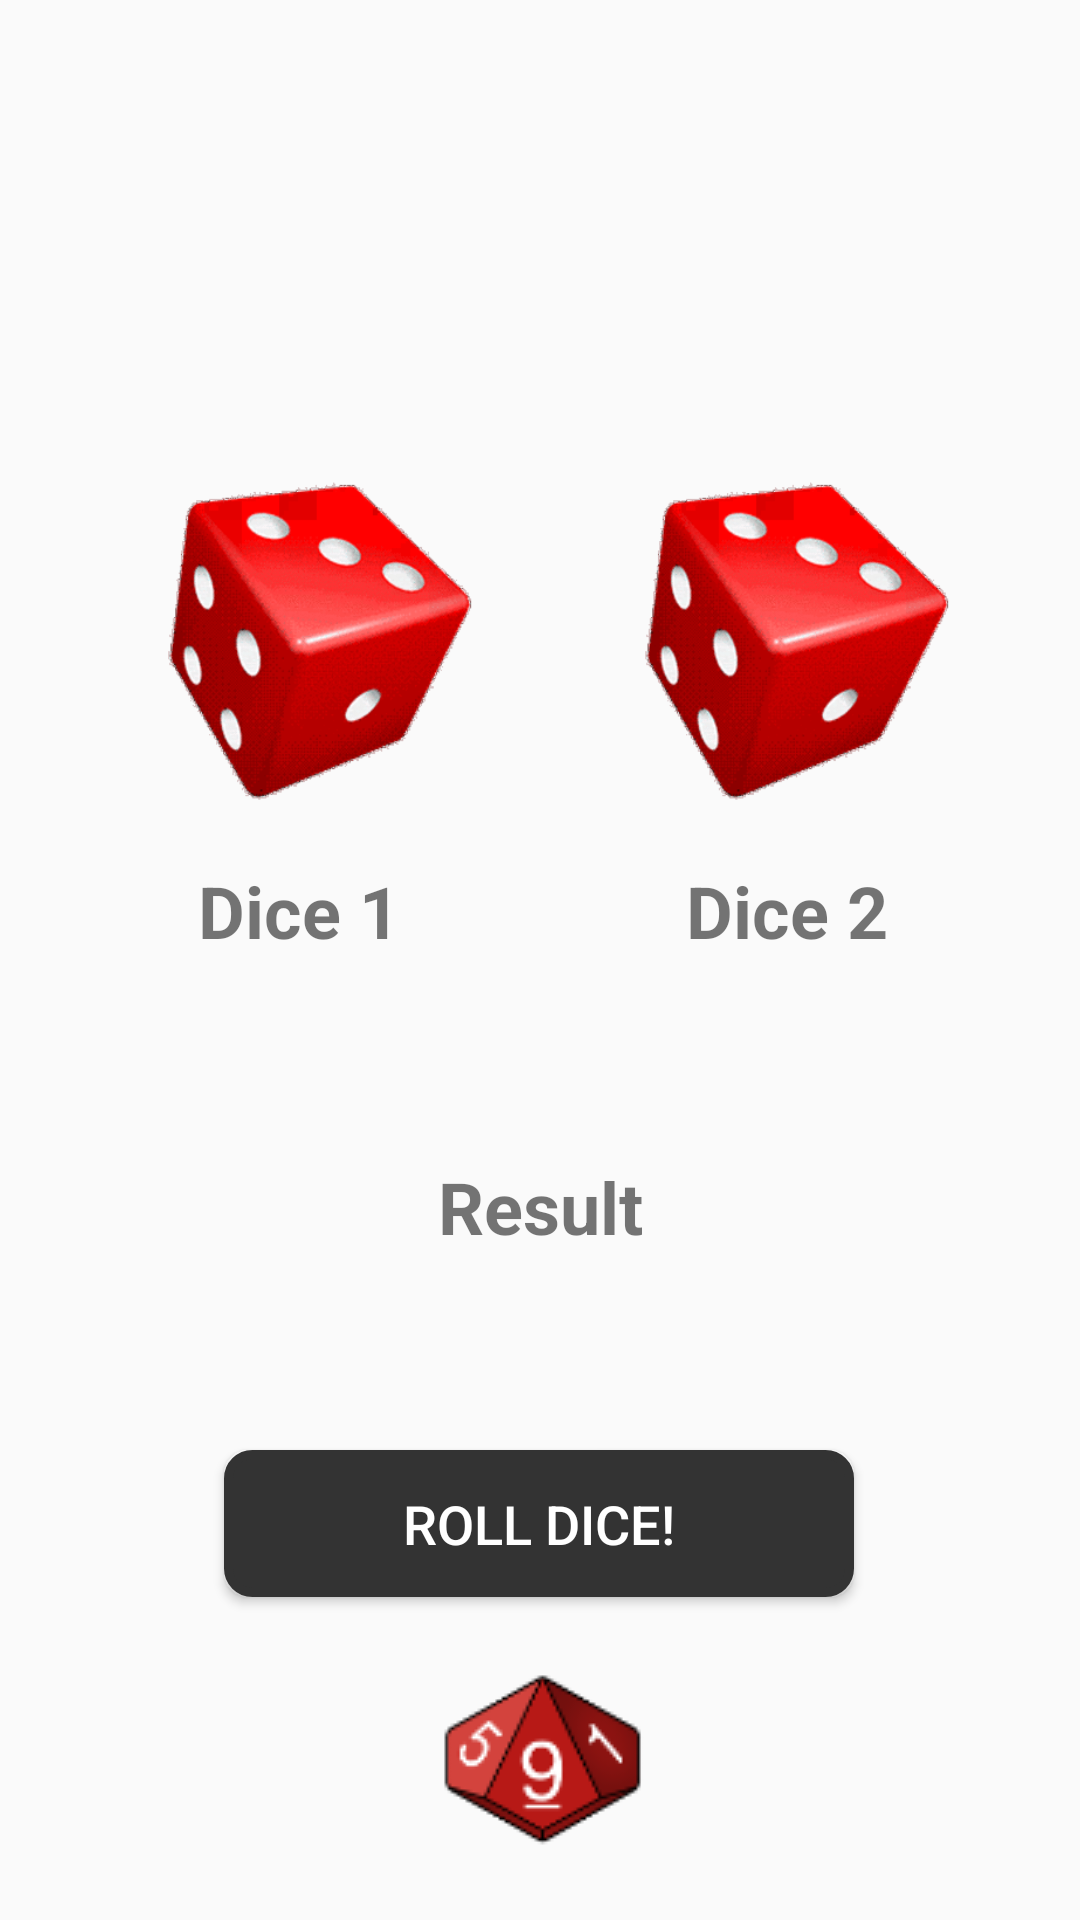

Point at icon controls on the screen. Image size 1080×1920, points as (x,y).
dicerolling: (320,641), (797,641)
